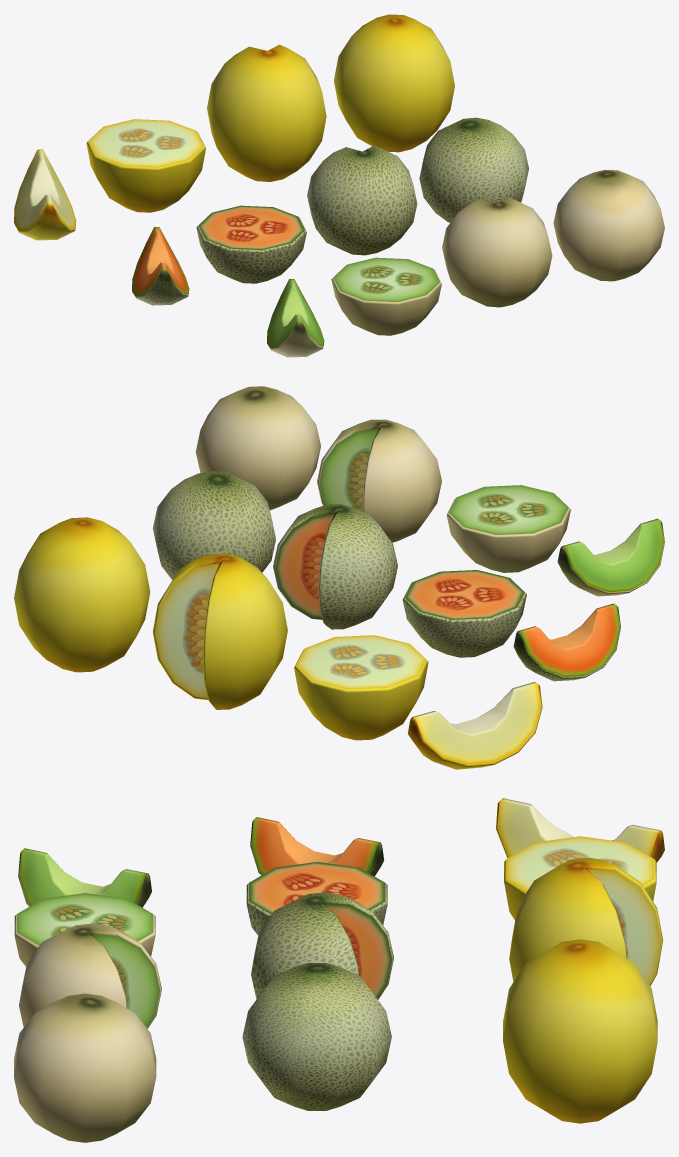
Rendered from Melons.fbx.
3 renders of one model, top to bottom at view 1: azimuth 30°, elevation 25°; view 2: azimuth 150°, elevation 25°; view 3: azimuth 270°, elevation 25°, orthographic. The views are drawn at different scales.
Parts seen in each view (by area): view 1: YellowMelon, Melon_Yellow_Cut, Honeydew, Honeydew_Cut, Canteloupe_Cut, Melon_Yellow_Half, Canteloupe, Honeydew_Half, Canteloupe_Half, Melon_Yellow_Slice, Canteloupe_Slice, Honeydew_Slice; view 2: YellowMelon, Melon_Yellow_Cut, Canteloupe_Cut, Melon_Yellow_Half, Honeydew, Honeydew_Cut, Canteloupe, Canteloupe_Half, Honeydew_Half, Melon_Yellow_Slice, Honeydew_Slice, Canteloupe_Slice; view 3: YellowMelon, Honeydew, Canteloupe, Melon_Yellow_Cut, Canteloupe_Cut, Honeydew_Cut, Honeydew_Half, Canteloupe_Half, Melon_Yellow_Half, Honeydew_Slice, Canteloupe_Slice, Melon_Yellow_Slice.
Boxes of the visible parts, x1,y1,x2,y2 form: YellowMelon: (334, 14, 454, 152); Melon_Yellow_Cut: (207, 44, 326, 181); Honeydew: (553, 169, 664, 281); Honeydew_Cut: (442, 197, 552, 307); Canteloupe_Cut: (307, 145, 417, 255); Melon_Yellow_Half: (86, 119, 205, 212); Canteloupe: (419, 117, 528, 222); Honeydew_Half: (331, 257, 441, 335); Canteloupe_Half: (196, 205, 306, 283); Melon_Yellow_Slice: (14, 149, 76, 240); Canteloupe_Slice: (132, 227, 189, 305); Honeydew_Slice: (267, 279, 324, 357); YellowMelon: (14, 517, 150, 672); Melon_Yellow_Cut: (152, 553, 287, 709); Canteloupe_Cut: (273, 504, 397, 629); Melon_Yellow_Half: (294, 635, 428, 740); Honeydew: (195, 386, 320, 510); Honeydew_Cut: (317, 419, 441, 542); Canteloupe: (152, 471, 275, 579); Canteloupe_Half: (402, 570, 526, 657); Honeydew_Half: (446, 485, 570, 572); Melon_Yellow_Slice: (407, 682, 542, 769); Honeydew_Slice: (557, 518, 664, 596); Canteloupe_Slice: (513, 603, 620, 681); YellowMelon: (503, 939, 657, 1123); Honeydew: (14, 993, 156, 1142); Canteloupe: (242, 963, 391, 1110); Melon_Yellow_Cut: (509, 857, 662, 986); Canteloupe_Cut: (251, 892, 393, 999); Honeydew_Cut: (19, 923, 161, 1028); Honeydew_Half: (14, 893, 155, 966); Canteloupe_Half: (246, 862, 387, 935); Melon_Yellow_Half: (504, 836, 656, 919); Honeydew_Slice: (18, 848, 151, 907); Canteloupe_Slice: (250, 817, 384, 876); Melon_Yellow_Slice: (496, 798, 664, 862).
Bounding box in the file's own units: 229 × 60.61 × 209.
3 materials, 3 textured.
